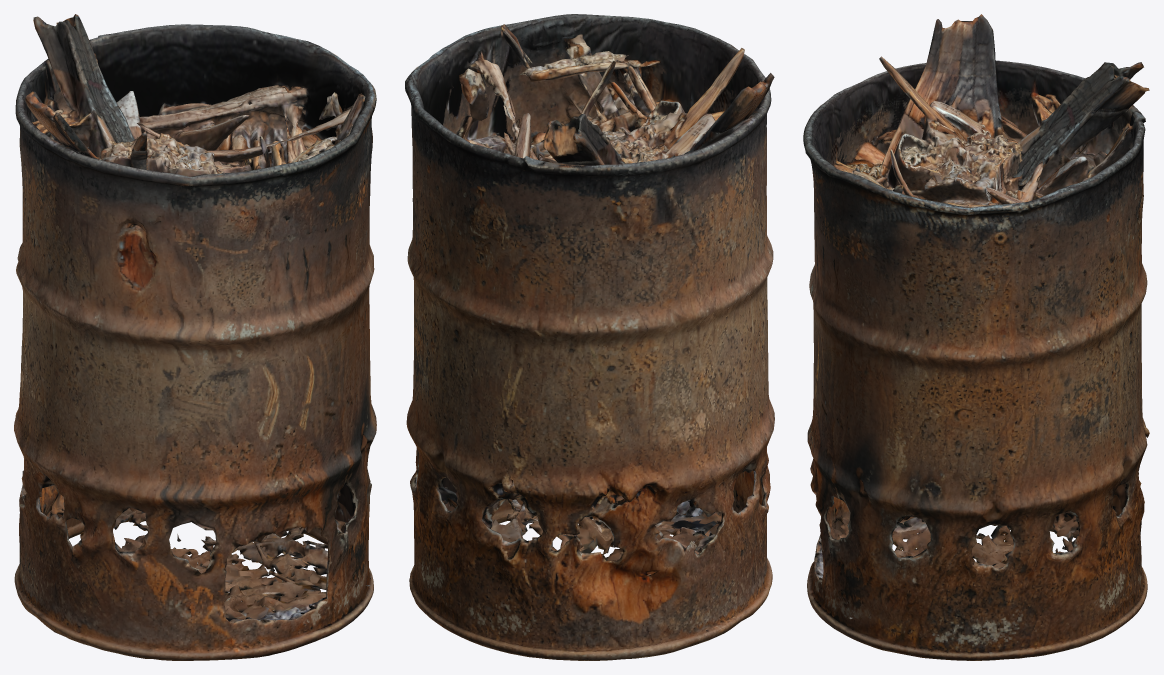
File: BurnBarrel.glb
3 views of the same model, side by side, from view 1: azimuth 30°, elevation 25°; view 2: azimuth 150°, elevation 25°; view 3: azimuth 270°, elevation 25° (orthographic). The views are drawn at different scales.
Visible parts, largest first — view 1: texture_mapping; view 2: texture_mapping; view 3: texture_mapping.
Boxes of the visible parts, <box> form: texture_mapping: <box>14,14,376,660</box>; texture_mapping: <box>405,14,774,660</box>; texture_mapping: <box>803,14,1149,660</box>.
Size of the model in its own units: 0.6421 by 1 by 0.6231.
Materials: 1 (1 with a texture image).
